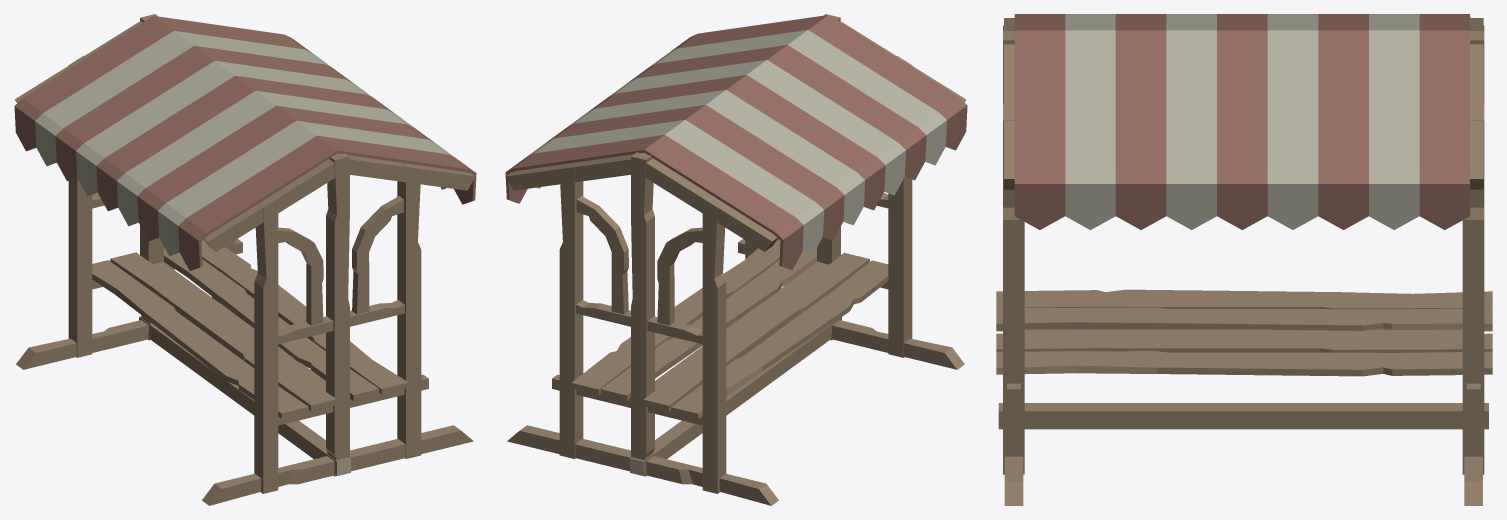
The model's file is market_stand_2.glb.
The picture shows the model from 3 angles, left to right: view 1: azimuth 30°, elevation 25°; view 2: azimuth 150°, elevation 25°; view 3: azimuth 270°, elevation 25°; orthographic projection. The views are drawn at different scales.
Parts seen in each view (by area): view 1: merged; view 2: merged; view 3: merged.
Part boxes in pixels (left/top/right/bottom): merged: left=14, top=14, right=476, bottom=505; merged: left=505, top=14, right=967, bottom=505; merged: left=996, top=14, right=1492, bottom=505.
Bounding box in the file's own units: 2 × 2.2 × 2.5.
